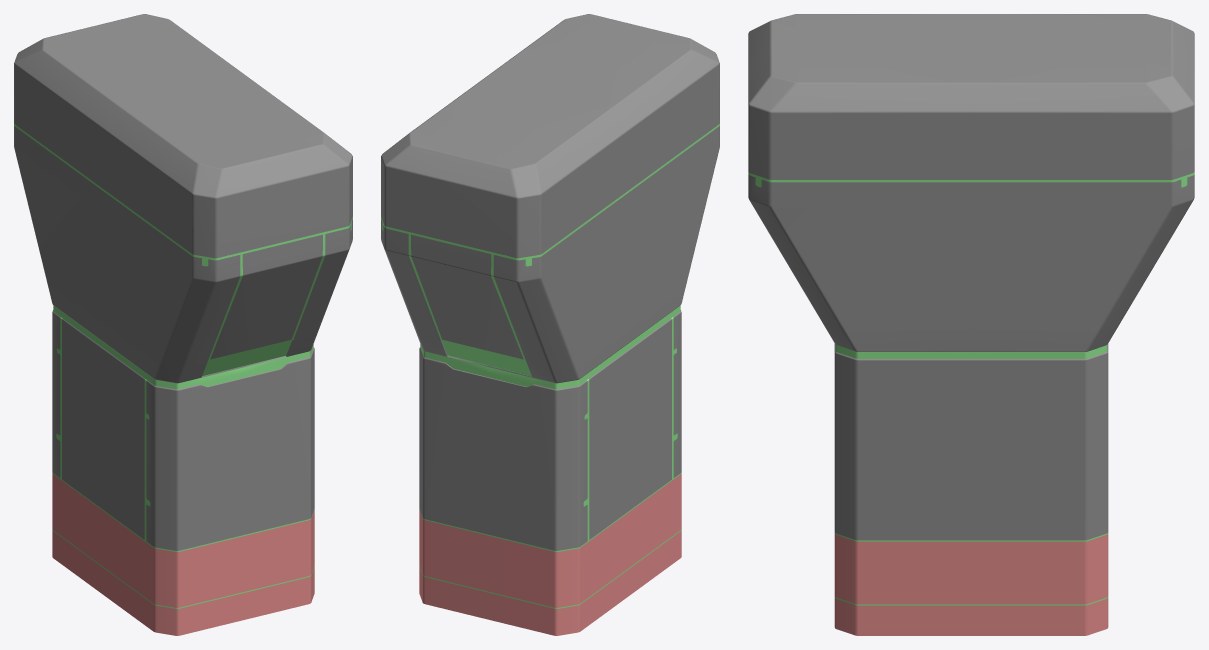
Rendered from S_Envi_FZFBase_pillar_01d.gltf.
3 views of the same model, side by side, from view 1: azimuth 30°, elevation 25°; view 2: azimuth 150°, elevation 25°; view 3: azimuth 270°, elevation 25° (orthographic). The views are drawn at different scales.
Parts seen in each view (by area): view 1: S_Envi_FZFBase_pillar_01d; view 2: S_Envi_FZFBase_pillar_01d; view 3: S_Envi_FZFBase_pillar_01d.
Boxes of the visible parts, left/top/right/bottom form: S_Envi_FZFBase_pillar_01d: left=14, top=14, right=352, bottom=635; S_Envi_FZFBase_pillar_01d: left=381, top=14, right=719, bottom=635; S_Envi_FZFBase_pillar_01d: left=748, top=14, right=1194, bottom=635.
Bounding box in the file's own units: 4.18 × 12.05 × 8.97.
